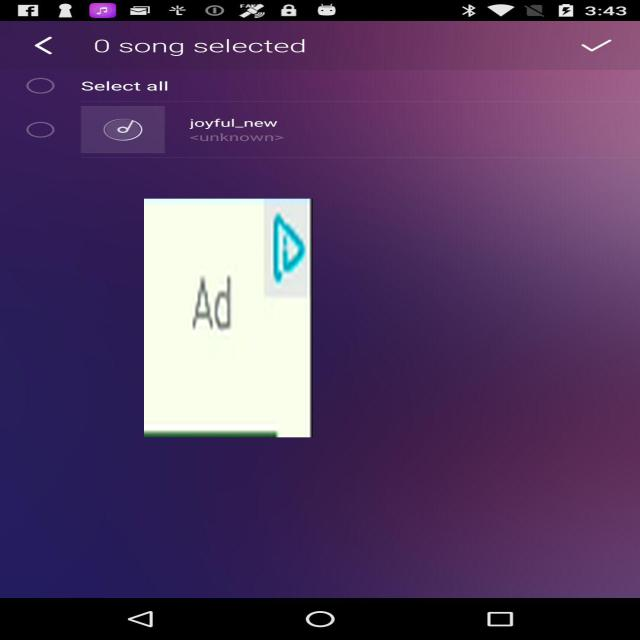sneaking: (144, 199, 313, 437)
